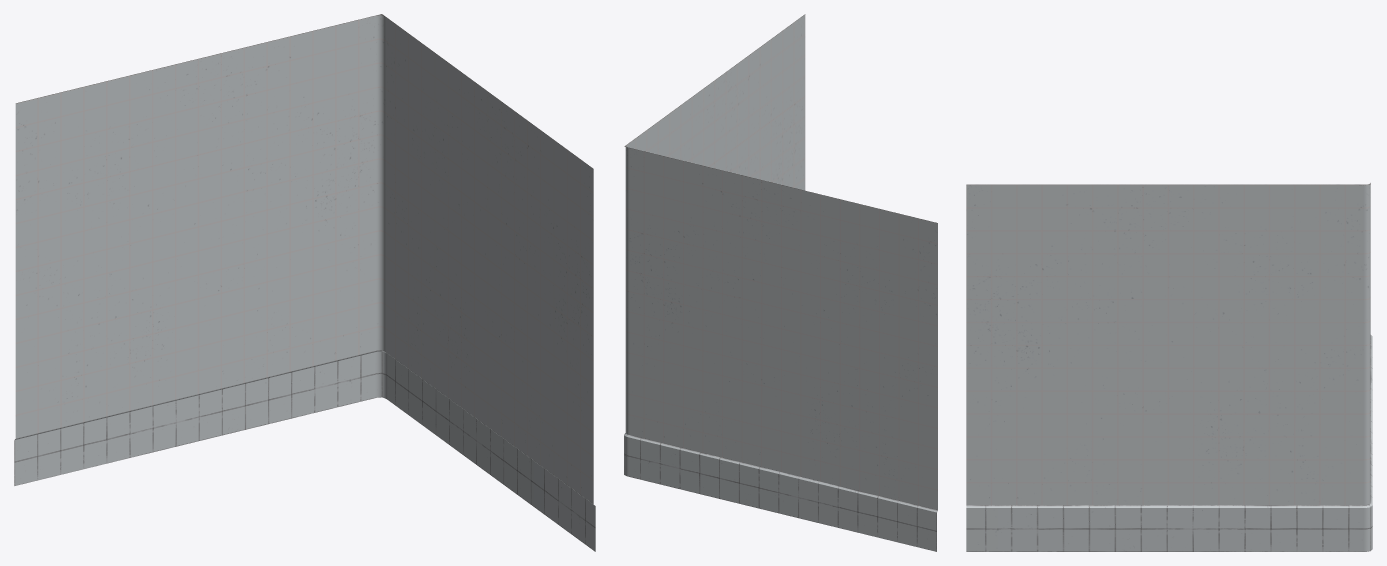
The model's file is platform_wall_crnr_a.fbx.
The picture shows the model from 3 angles, left to right: view 1: azimuth 30°, elevation 25°; view 2: azimuth 150°, elevation 25°; view 3: azimuth 270°, elevation 25°; orthographic projection. The views are drawn at different scales.
Visible parts, largest first — view 1: platform_wall_crnr_a; view 2: platform_wall_crnr_a; view 3: platform_wall_crnr_a.
Part boxes in pixels (box(x1,y1,x2,y2)): platform_wall_crnr_a: box(14, 14, 595, 551); platform_wall_crnr_a: box(624, 14, 937, 551); platform_wall_crnr_a: box(966, 183, 1372, 551).
Bounding box in the file's own units: 402 × 400 × 402.
2 materials, 2 textured.
